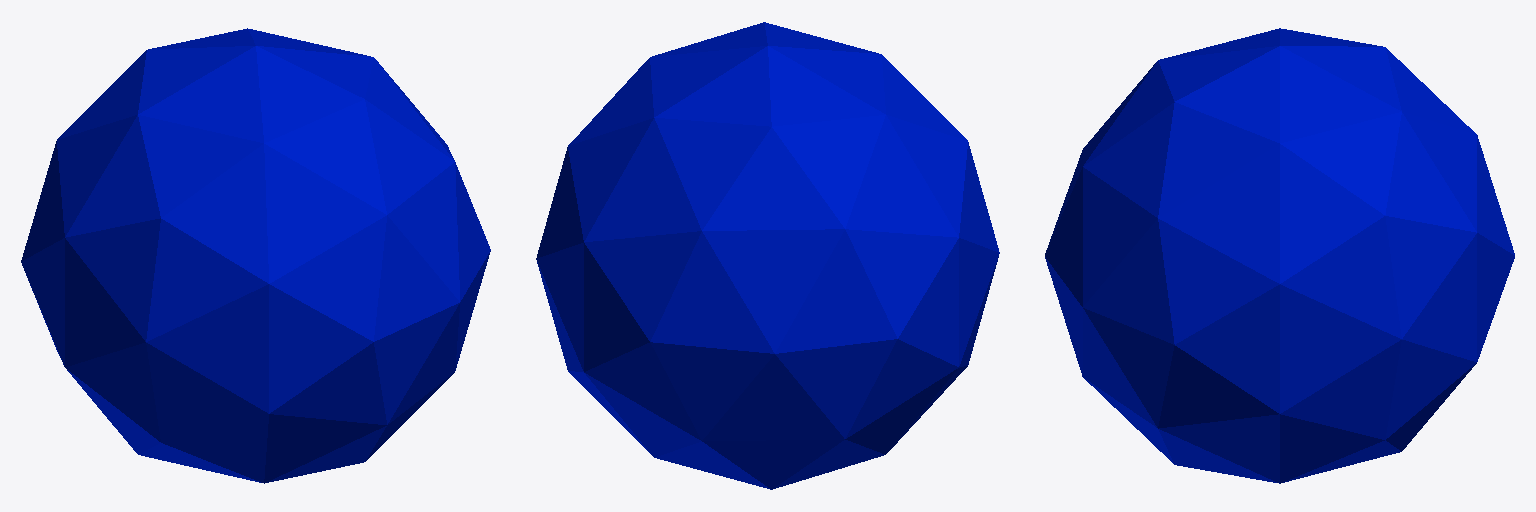
Rendered from Shield.obj.
The picture shows the model from 3 angles: view 1: azimuth 30°, elevation 25°; view 2: azimuth 150°, elevation 25°; view 3: azimuth 270°, elevation 25°; orthographic projection.
Visible parts, largest first — view 1: Icosphere_Icosphere.001; view 2: Icosphere_Icosphere.001; view 3: Icosphere_Icosphere.001.
Boxes of the visible parts, <box> form: Icosphere_Icosphere.001: <box>21,28,490,483</box>; Icosphere_Icosphere.001: <box>536,22,999,489</box>; Icosphere_Icosphere.001: <box>1045,28,1514,483</box>.
Bounding box in the file's own units: 1.73 × 1.82 × 1.85.